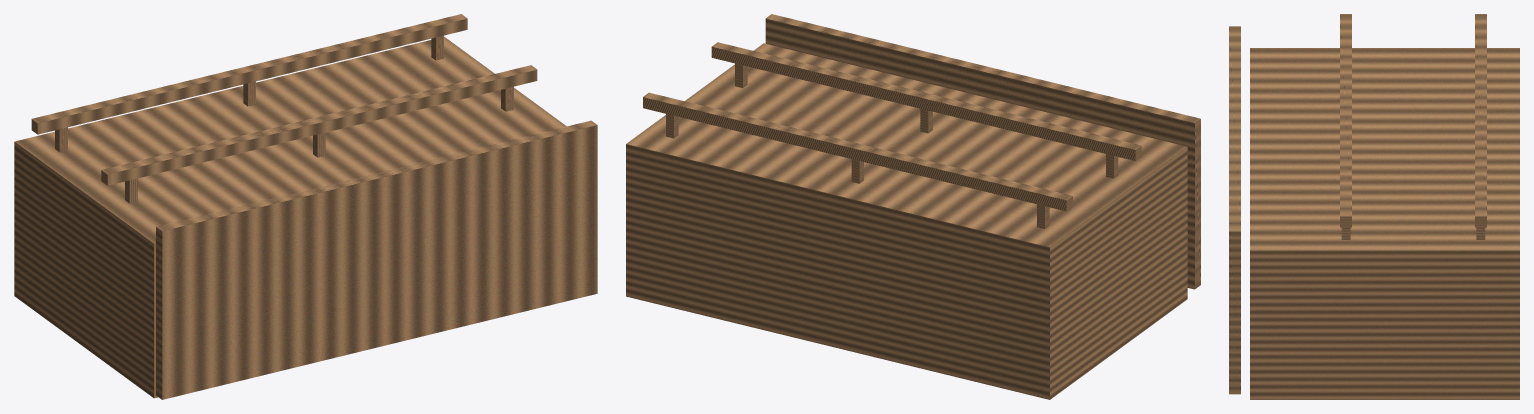
File: nesting_box.obj
The picture shows the model from 3 angles, left to right: view 1: azimuth 30°, elevation 25°; view 2: azimuth 150°, elevation 25°; view 3: azimuth 270°, elevation 25°; orthographic projection. The views are drawn at different scales.
Size of the model in its own units: 1.62 by 0.675 by 0.97.
Materials: 1 (1 with a texture image).
